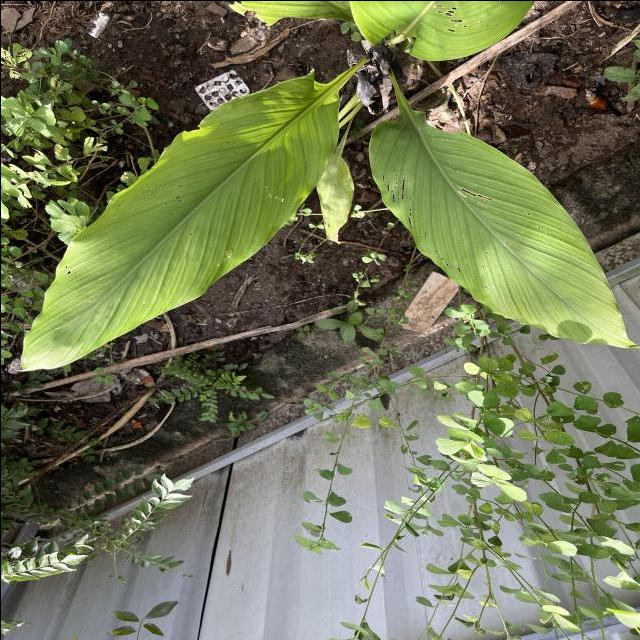Curcuma longa: (13, 69, 341, 373), (365, 100, 640, 352)
